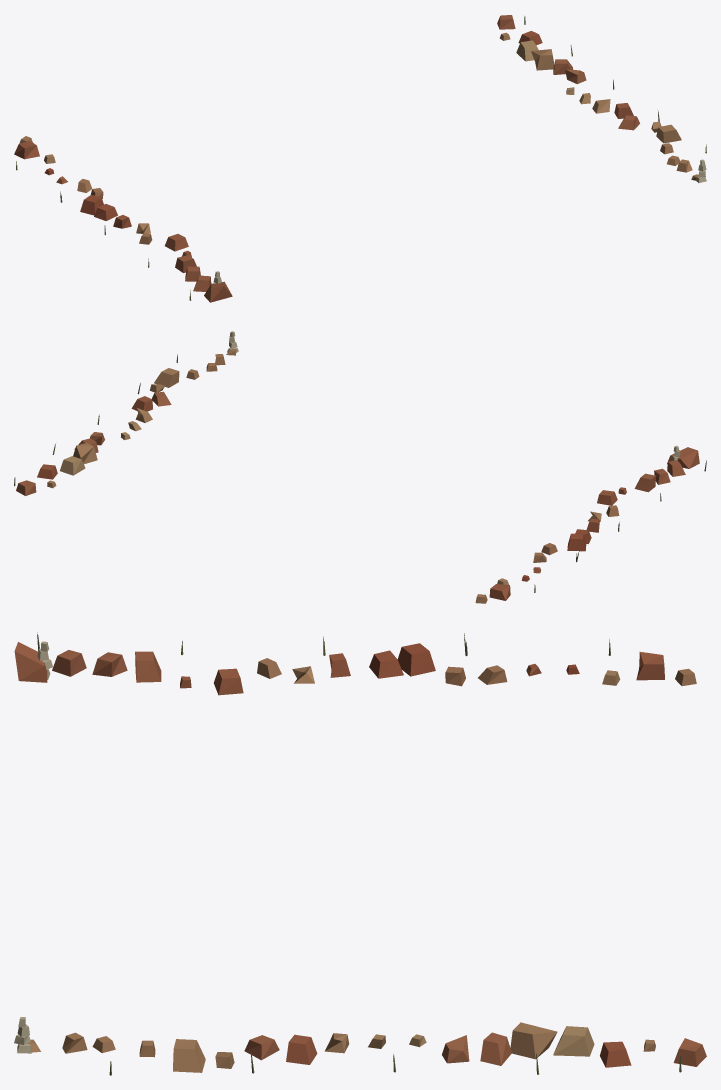
The model's file is mesa_lip_kicker_26x5x30_detail1.glb.
3 views of the same model, one above another, from view 1: azimuth 30°, elevation 25°; view 2: azimuth 150°, elevation 25°; view 3: azimuth 270°, elevation 25° (orthographic). The views are drawn at different scales.
Visible parts, largest first — view 1: mesa_lip_kicker_26x5x30_detail1; view 2: mesa_lip_kicker_26x5x30_detail1; view 3: mesa_lip_kicker_26x5x30_detail1.
Part boxes in pixels (box(x1,y1,x2,y2)): mesa_lip_kicker_26x5x30_detail1: box(14, 15, 706, 302); mesa_lip_kicker_26x5x30_detail1: box(14, 331, 706, 603); mesa_lip_kicker_26x5x30_detail1: box(14, 632, 706, 1075).
Size of the model in its own units: 36.7 by 1.33 by 25.35.
